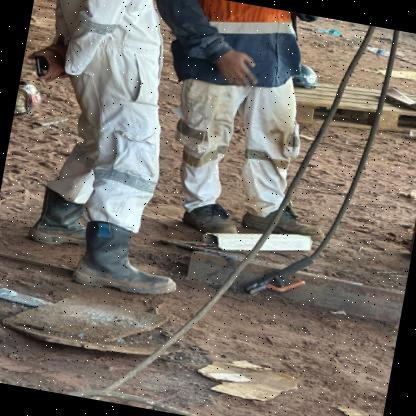bota: (70, 218, 188, 301), (33, 187, 98, 249), (245, 201, 326, 243), (180, 197, 242, 237)
